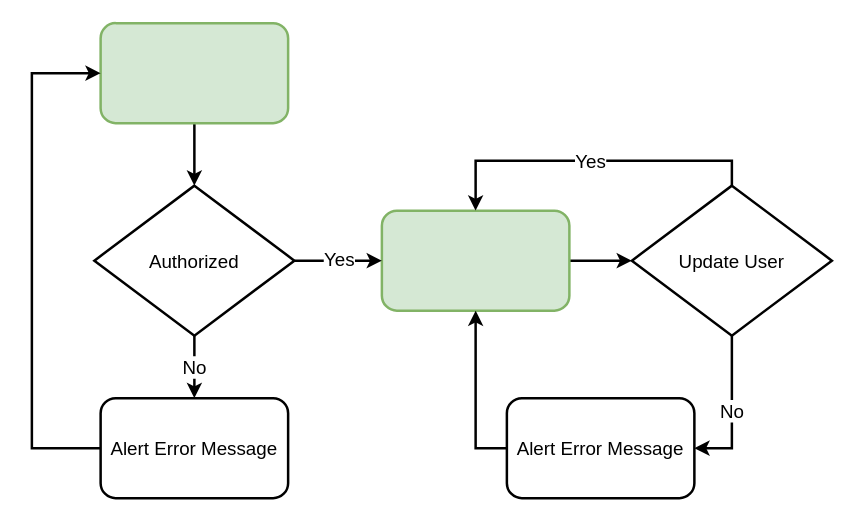
Some shapes in this 854 by 520 pixel diagram are drawn without their labels. Here are the shapes that lost their labels. From the top down, the box of each, then its label:
(99, 21, 289, 124): Log In Page
(380, 209, 570, 311): Account Page
